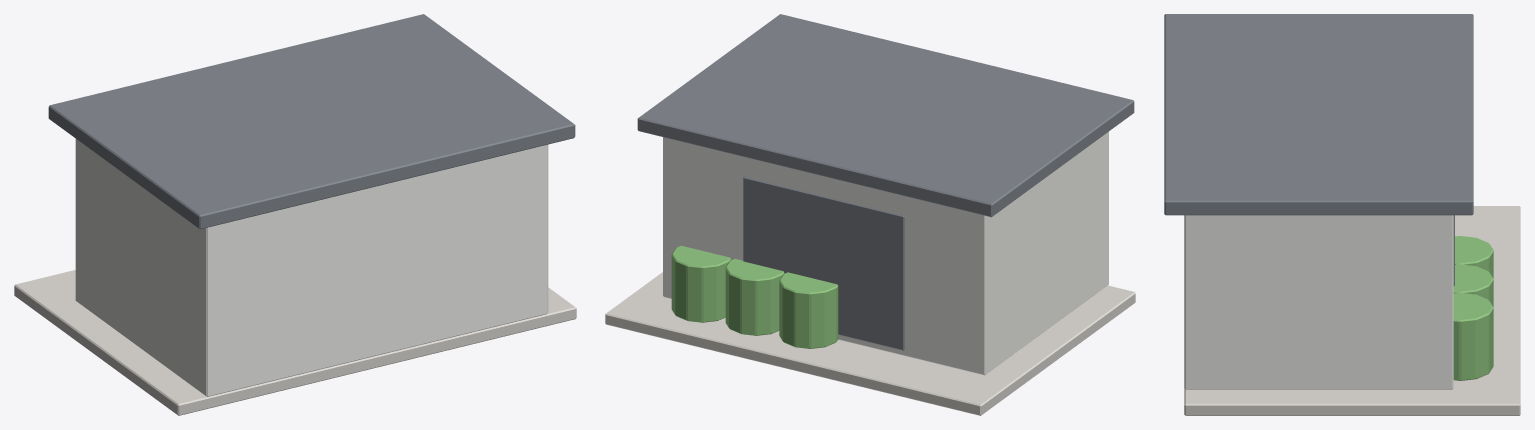
File: 构筑_垃圾站_01.fbx
3 renders of one model, left to right at view 1: azimuth 30°, elevation 25°; view 2: azimuth 150°, elevation 25°; view 3: azimuth 270°, elevation 25°, orthographic. The views are drawn at different scales.
Parts seen in each view (by area): view 1: 站房, 顶棚.002, 基座.012; view 2: 顶棚.002, 站房, 基座.012, 卷帘门, 垃圾桶; view 3: 顶棚.002, 站房, 基座.012, 垃圾桶.
Boxes of the visible parts, box(x1,y1,x2,y2) form: 站房: box(75, 139, 548, 396); 顶棚.002: box(48, 14, 575, 229); 基座.012: box(14, 270, 576, 415); 顶棚.002: box(637, 14, 1134, 217); 站房: box(663, 131, 1108, 375); 基座.012: box(605, 272, 1135, 415); 卷帘门: box(743, 176, 904, 350); 垃圾桶: box(671, 245, 838, 348); 顶棚.002: box(1164, 14, 1473, 215); 站房: box(1184, 215, 1453, 389); 基座.012: box(1184, 206, 1520, 415); 垃圾桶: box(1453, 236, 1493, 380).
Size of the model in its own units: 700 by 344 by 530.
